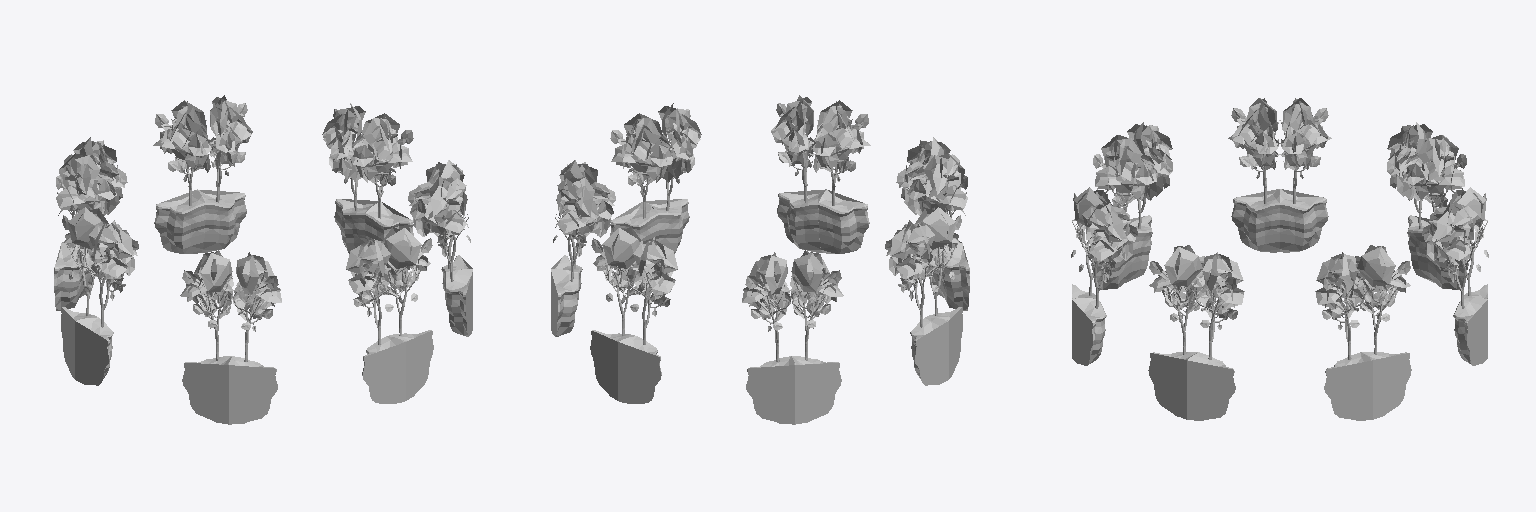
The model's file is PlatformTree.obj.
3 renders of one model, left to right at view 1: azimuth 30°, elevation 25°; view 2: azimuth 150°, elevation 25°; view 3: azimuth 270°, elevation 25°, orthographic.
Parts seen in each view (by area): view 1: PlatformTree group20; view 2: PlatformTree group20; view 3: PlatformTree group20.
Boxes of the visible parts, x1,y1,x2,y2 form: PlatformTree group20: [54, 95, 472, 424]; PlatformTree group20: [551, 95, 969, 424]; PlatformTree group20: [1071, 98, 1488, 420].
Size of the model in its own units: 167 by 70.96 by 167.